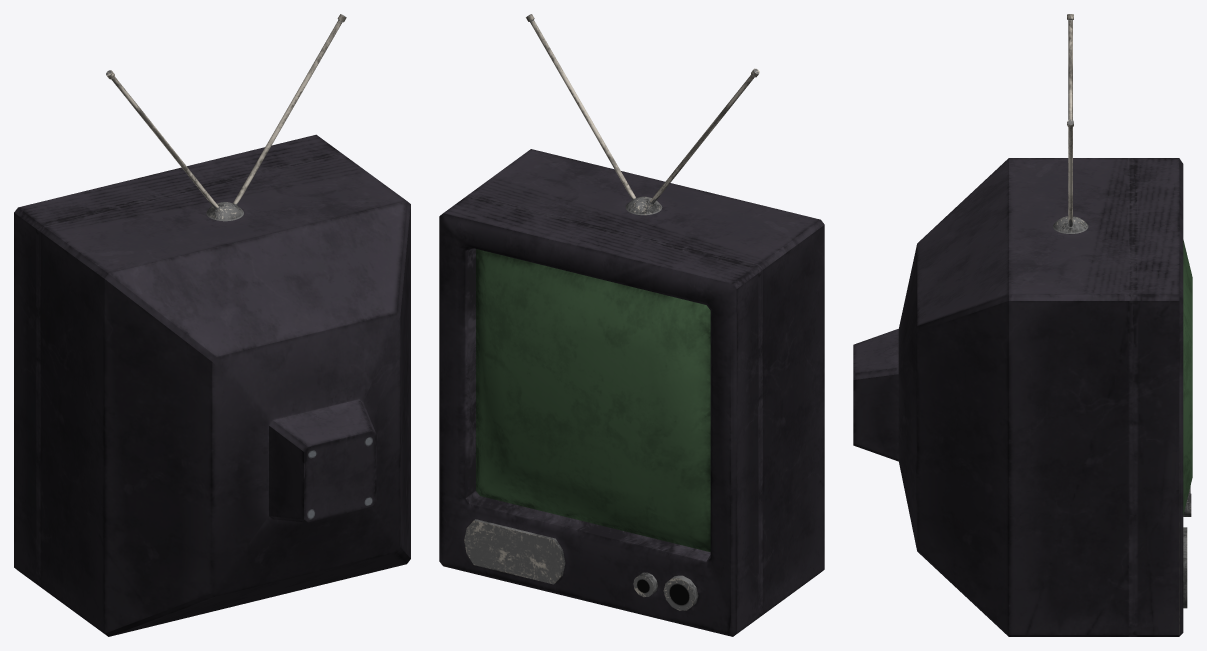
The model's file is Television_AA.fbx.
3 renders of one model, left to right at view 1: azimuth 30°, elevation 25°; view 2: azimuth 150°, elevation 25°; view 3: azimuth 270°, elevation 25°, orthographic. The views are drawn at different scales.
Visible parts, largest first — view 1: Television_AA; view 2: Television_AA; view 3: Television_AA.
Boxes of the visible parts, x1=… form: Television_AA: x1=14, y1=14, x2=410, y2=636; Television_AA: x1=439, y1=14, x2=824, y2=636; Television_AA: x1=853, y1=14, x2=1192, y2=636.
Bounding box in the file's own units: 0.4051 × 0.4125 × 0.6743.
1 material, 1 textured.
